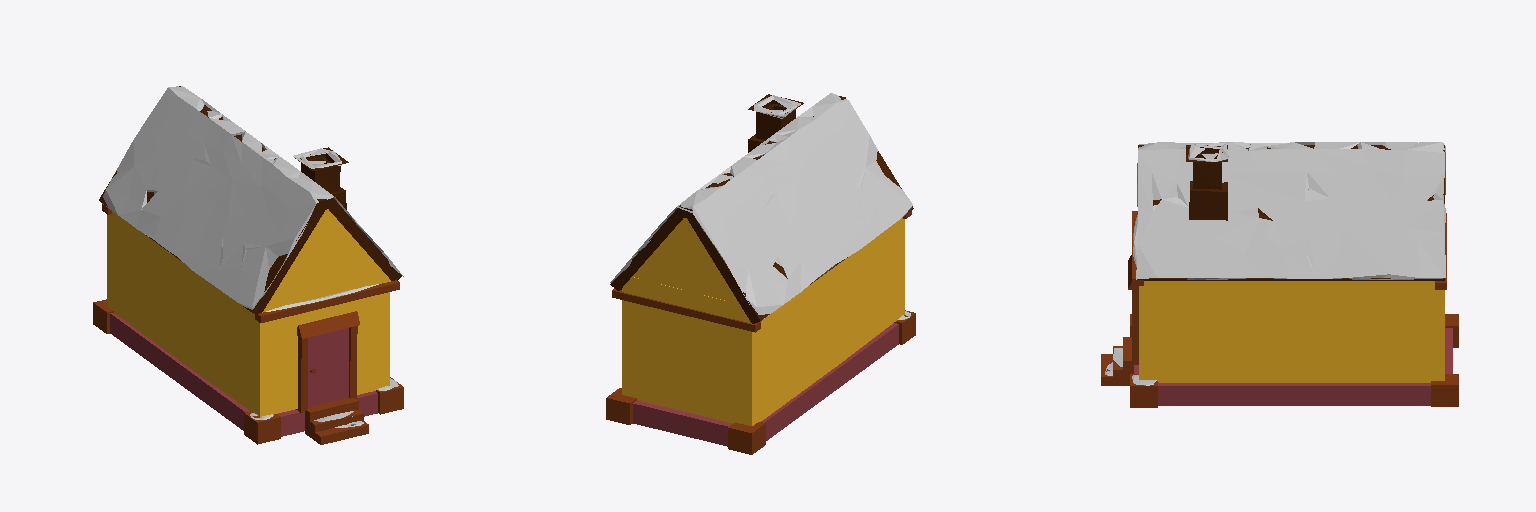
3 renders of one model, left to right at view 1: azimuth 30°, elevation 25°; view 2: azimuth 150°, elevation 25°; view 3: azimuth 270°, elevation 25°, orthographic.
Parts seen in each view (by area): view 1: SnowBall.003, Cube, Cube.007, Cube.004, Cube.001, Cube.006, Cube.009, Cube.014, Cube.011, Cube.015, Cube.005, Cube.013 (+3 smaller); view 2: Cube, SnowBall.003, Cube.004, Cube.007, Cube.006, Cube.008, Cube.014, Cube.016, Cube.017; view 3: SnowBall.003, Cube, Cube.004, Cube.014, Cube.006, Cube.017, Cube.010, SnowBall.006, Cube.012.
Boxes of the visible parts, <box> form: SnowBall.003: <box>102,86,403,309</box>; Cube: <box>107,211,389,417</box>; Cube.007: <box>262,209,390,312</box>; Cube.004: <box>110,313,377,436</box>; Cube.001: <box>308,328,348,406</box>; Cube.006: <box>99,86,401,314</box>; Cube.009: <box>255,280,399,322</box>; Cube.014: <box>295,147,348,209</box>; Cube.011: <box>297,311,359,338</box>; Cube.015: <box>244,411,280,444</box>; Cube.005: <box>305,421,368,444</box>; Cube.013: <box>296,337,307,412</box>; Cube: <box>622,218,904,425</box>; SnowBall.003: <box>610,93,912,318</box>; Cube.004: <box>633,323,898,446</box>; Cube.007: <box>632,218,738,303</box>; Cube.006: <box>610,96,913,323</box>; Cube.008: <box>612,288,760,332</box>; Cube.014: <box>748,94,803,152</box>; Cube.016: <box>728,422,765,454</box>; Cube.017: <box>606,388,636,424</box>; SnowBall.003: <box>1136,142,1445,279</box>; Cube: <box>1139,281,1444,382</box>; Cube.004: <box>1134,328,1452,405</box>; Cube.014: <box>1186,145,1227,220</box>; Cube.006: <box>1138,145,1444,280</box>; Cube.017: <box>1431,374,1458,406</box>; Cube.010: <box>1130,374,1157,407</box>; SnowBall.006: <box>1188,143,1228,182</box>; Cube.012: <box>1132,290,1138,364</box>.
Size of the model in its own units: 5.81 by 8.51 by 11.67.
Materials: 5 (4 with a texture image).